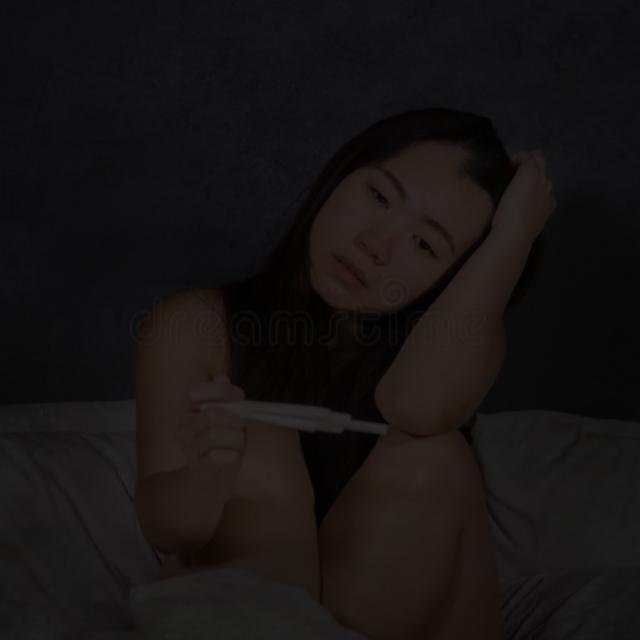Sad: (285, 110, 478, 349)
